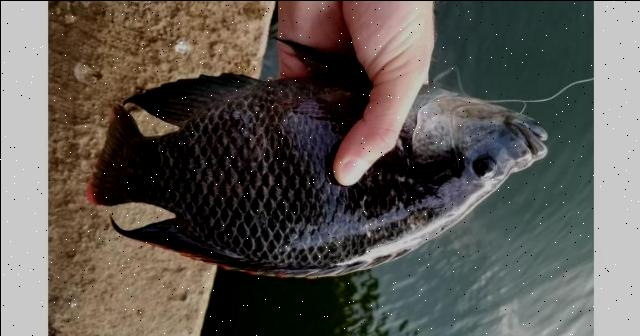Mulut: (499, 92, 578, 176)
Sirip Anal: (119, 62, 265, 130)
Sirip Ekor: (76, 97, 150, 217)
Sirip Perut: (264, 22, 368, 88)
Sirip Punggung: (100, 202, 420, 284)
